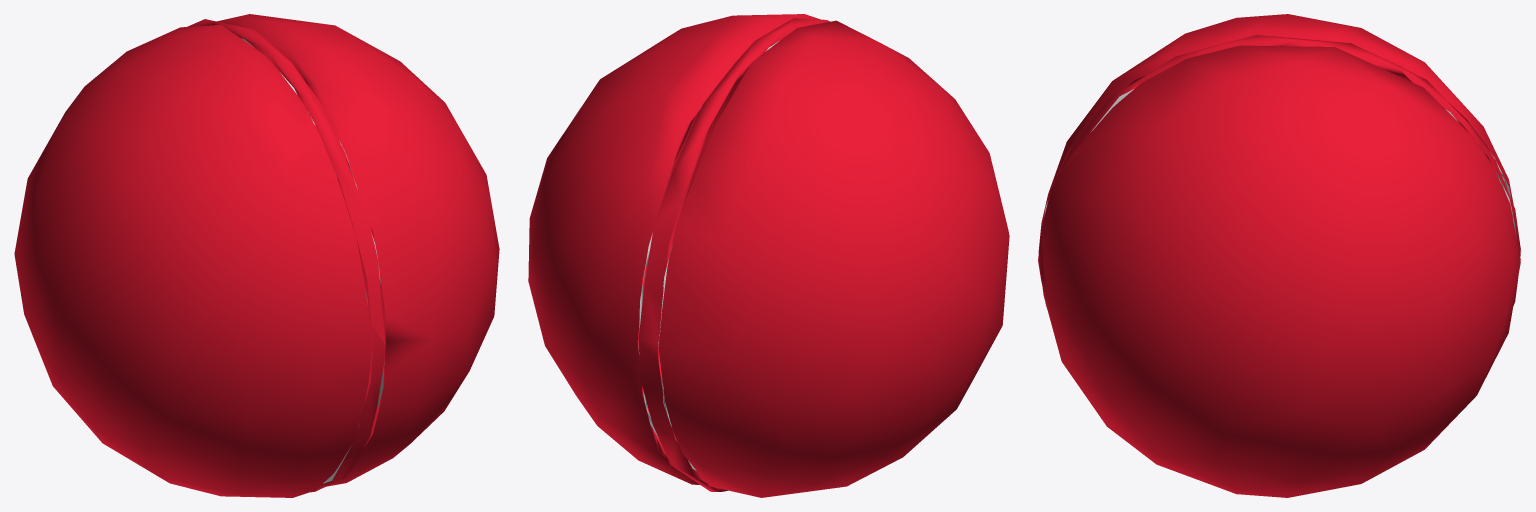
The model's file is cricket ball.fbx.
3 views of the same model, side by side, from view 1: azimuth 30°, elevation 25°; view 2: azimuth 150°, elevation 25°; view 3: azimuth 270°, elevation 25° (orthographic).
Parts seen in each view (by area): view 1: Sphere; view 2: Sphere; view 3: Sphere.
Part boxes in pixels (<box>): Sphere: <box>14,14,499,497</box>; Sphere: <box>528,14,1009,497</box>; Sphere: <box>1038,14,1521,497</box>.
Bounding box in the file's own units: 197 × 197 × 198.
